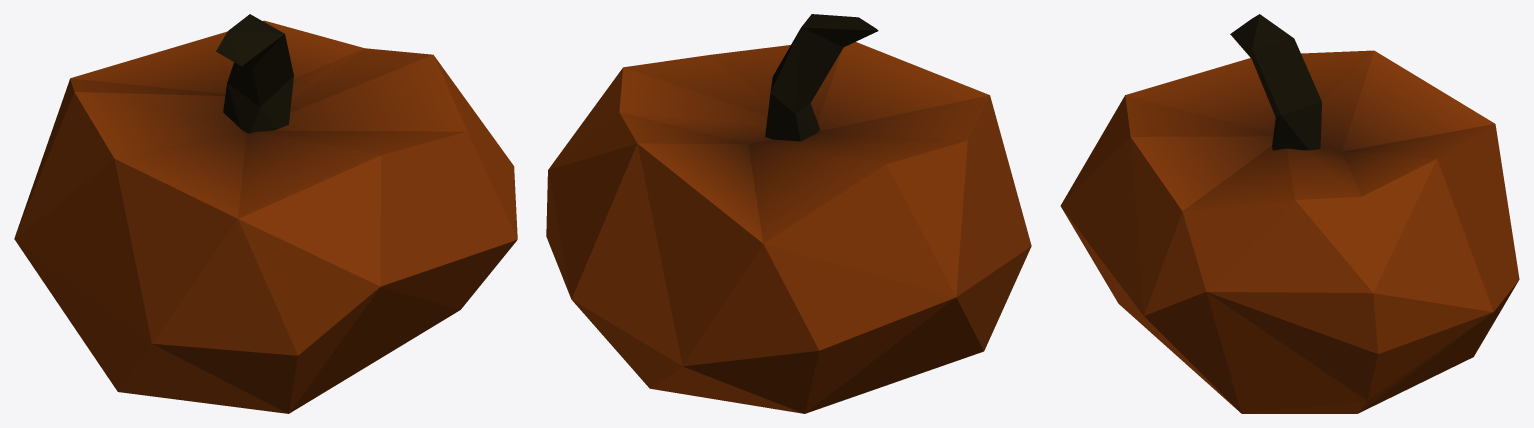
Rendered from Pumpkin.fbx.
The picture shows the model from 3 angles, left to right: view 1: azimuth 30°, elevation 25°; view 2: azimuth 150°, elevation 25°; view 3: azimuth 270°, elevation 25°; orthographic projection. The views are drawn at different scales.
Visible parts, largest first — view 1: Pumpkin; view 2: Pumpkin; view 3: Pumpkin.
Part boxes in pixels (bbox=[...]): Pumpkin: bbox=[14, 14, 517, 413]; Pumpkin: bbox=[546, 14, 1031, 413]; Pumpkin: bbox=[1060, 14, 1519, 413].
Size of the model in its own units: 87.09 by 68.63 by 90.17.
